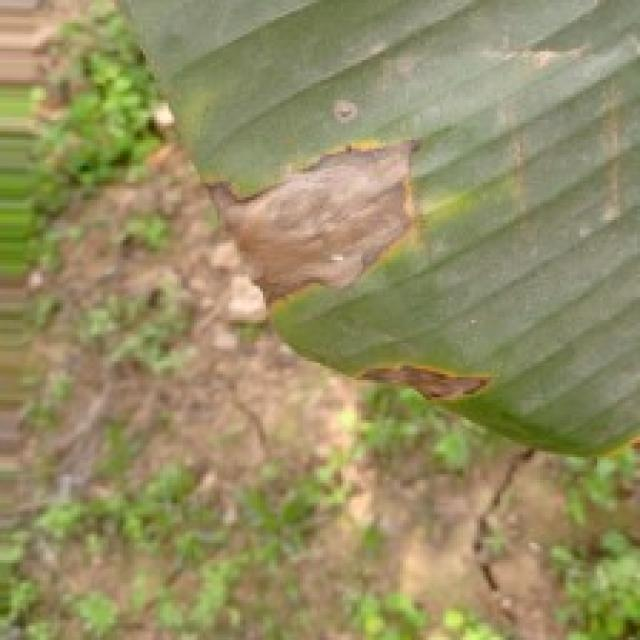Bacterial_spot: (186, 132, 442, 316), (490, 93, 550, 256), (349, 344, 499, 404), (592, 73, 635, 230), (449, 27, 598, 72), (324, 80, 363, 131)
